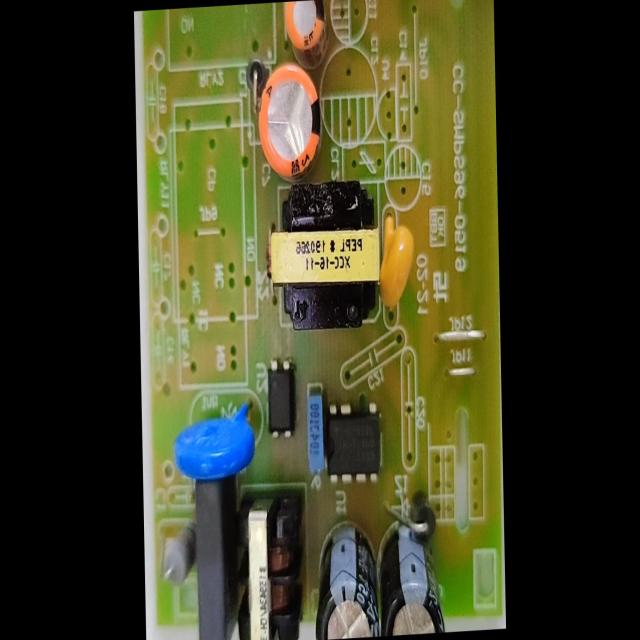Cap1: (255, 58, 328, 182)
Cap2: (282, 0, 332, 54)
Cap3: (310, 516, 381, 640)
Cap4: (376, 510, 452, 636)
MOSFET: (324, 396, 386, 490)
Mov: (170, 398, 262, 487)
Resistor: (158, 514, 198, 598)
Transformer: (266, 173, 385, 337), (231, 494, 312, 640)
